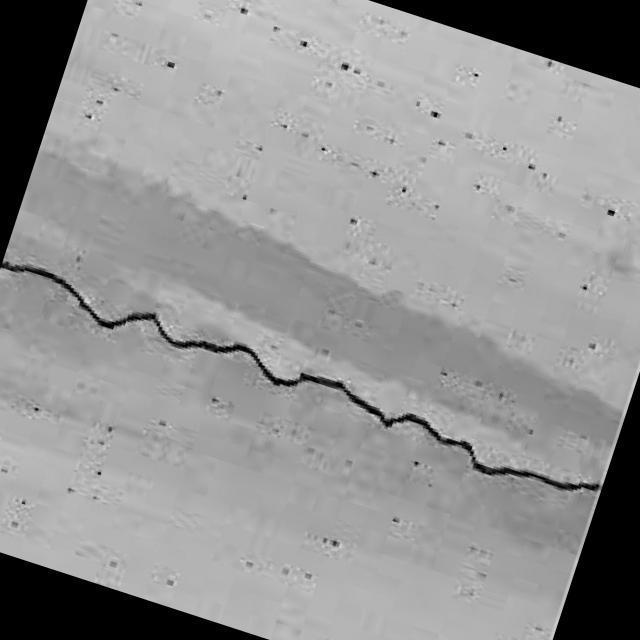defect: (2, 257, 605, 498)
